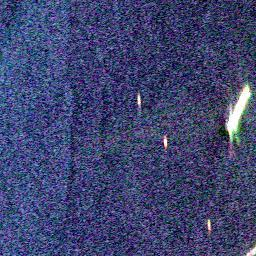Ship: (223, 84, 252, 137), (204, 214, 214, 235), (134, 92, 144, 110), (161, 130, 168, 151)
